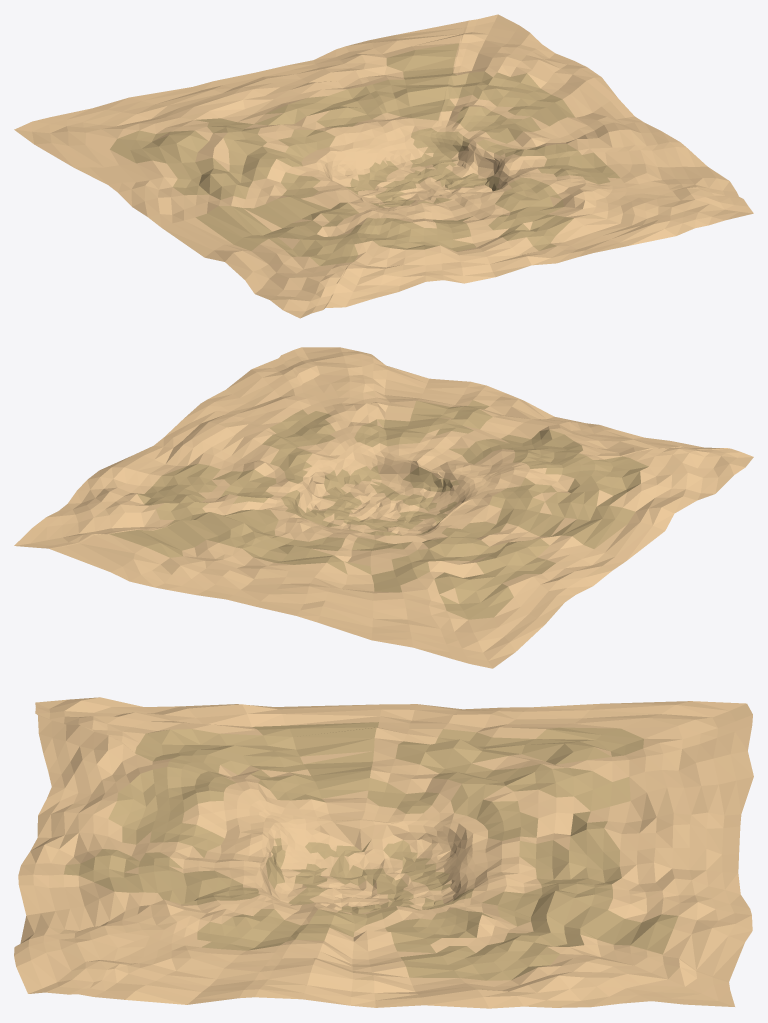
The model's file is MainTerrain.fbx.
3 renders of one model, top to bottom at view 1: azimuth 30°, elevation 25°; view 2: azimuth 150°, elevation 25°; view 3: azimuth 270°, elevation 25°, orthographic. The views are drawn at different scales.
Parts seen in each view (by area): view 1: MainTerrain; view 2: MainTerrain; view 3: MainTerrain.
Part boxes in pixels (x1,y1,x2,y2): MainTerrain: (14, 14, 753, 318); MainTerrain: (14, 347, 753, 668); MainTerrain: (14, 697, 753, 1008).
Bounding box in the file's own units: 411290 × 31875 × 411374.
